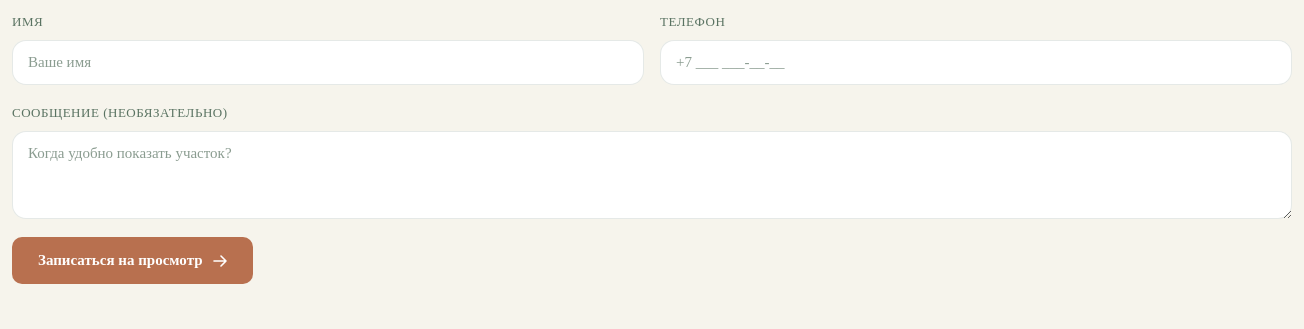
LeadForm › shows validation error for short name
The image size is (1304, 329).
Type "И" into the field labelled "Имя" at coordinates (328, 63), box [12,40,644,85]
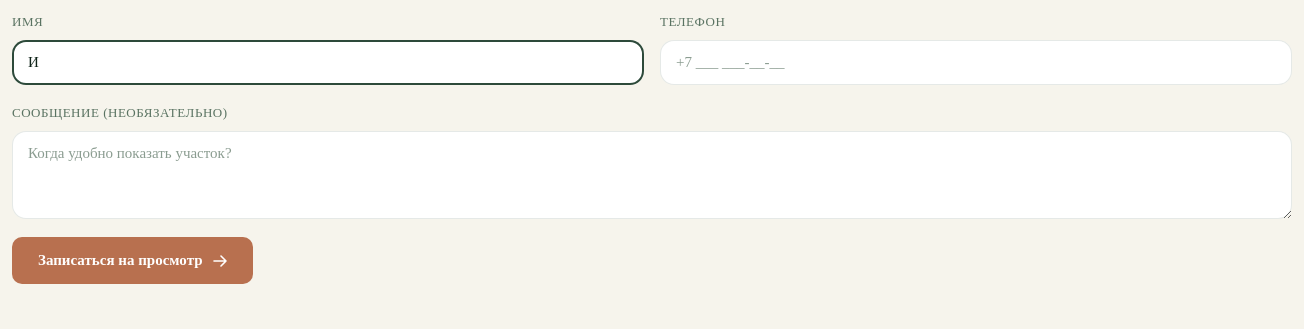
Type "+7 861 000 00 00" into the field labelled "Телефон" at coordinates (976, 63), box [660,40,1292,85]
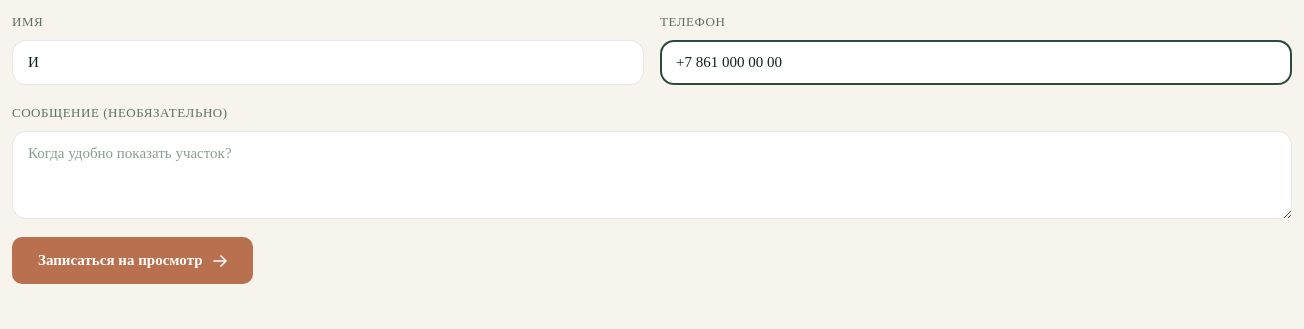
Click the button "Записаться на просмотр" at coordinates (132, 261), box [12,237,252,284]
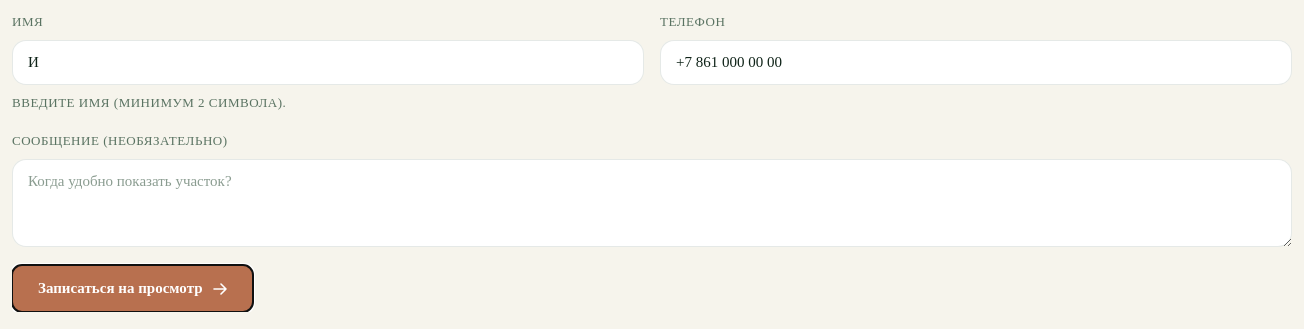
Check: the text "Введите имя (минимум 2 символа)." is shown, box [12,95,286,110]
